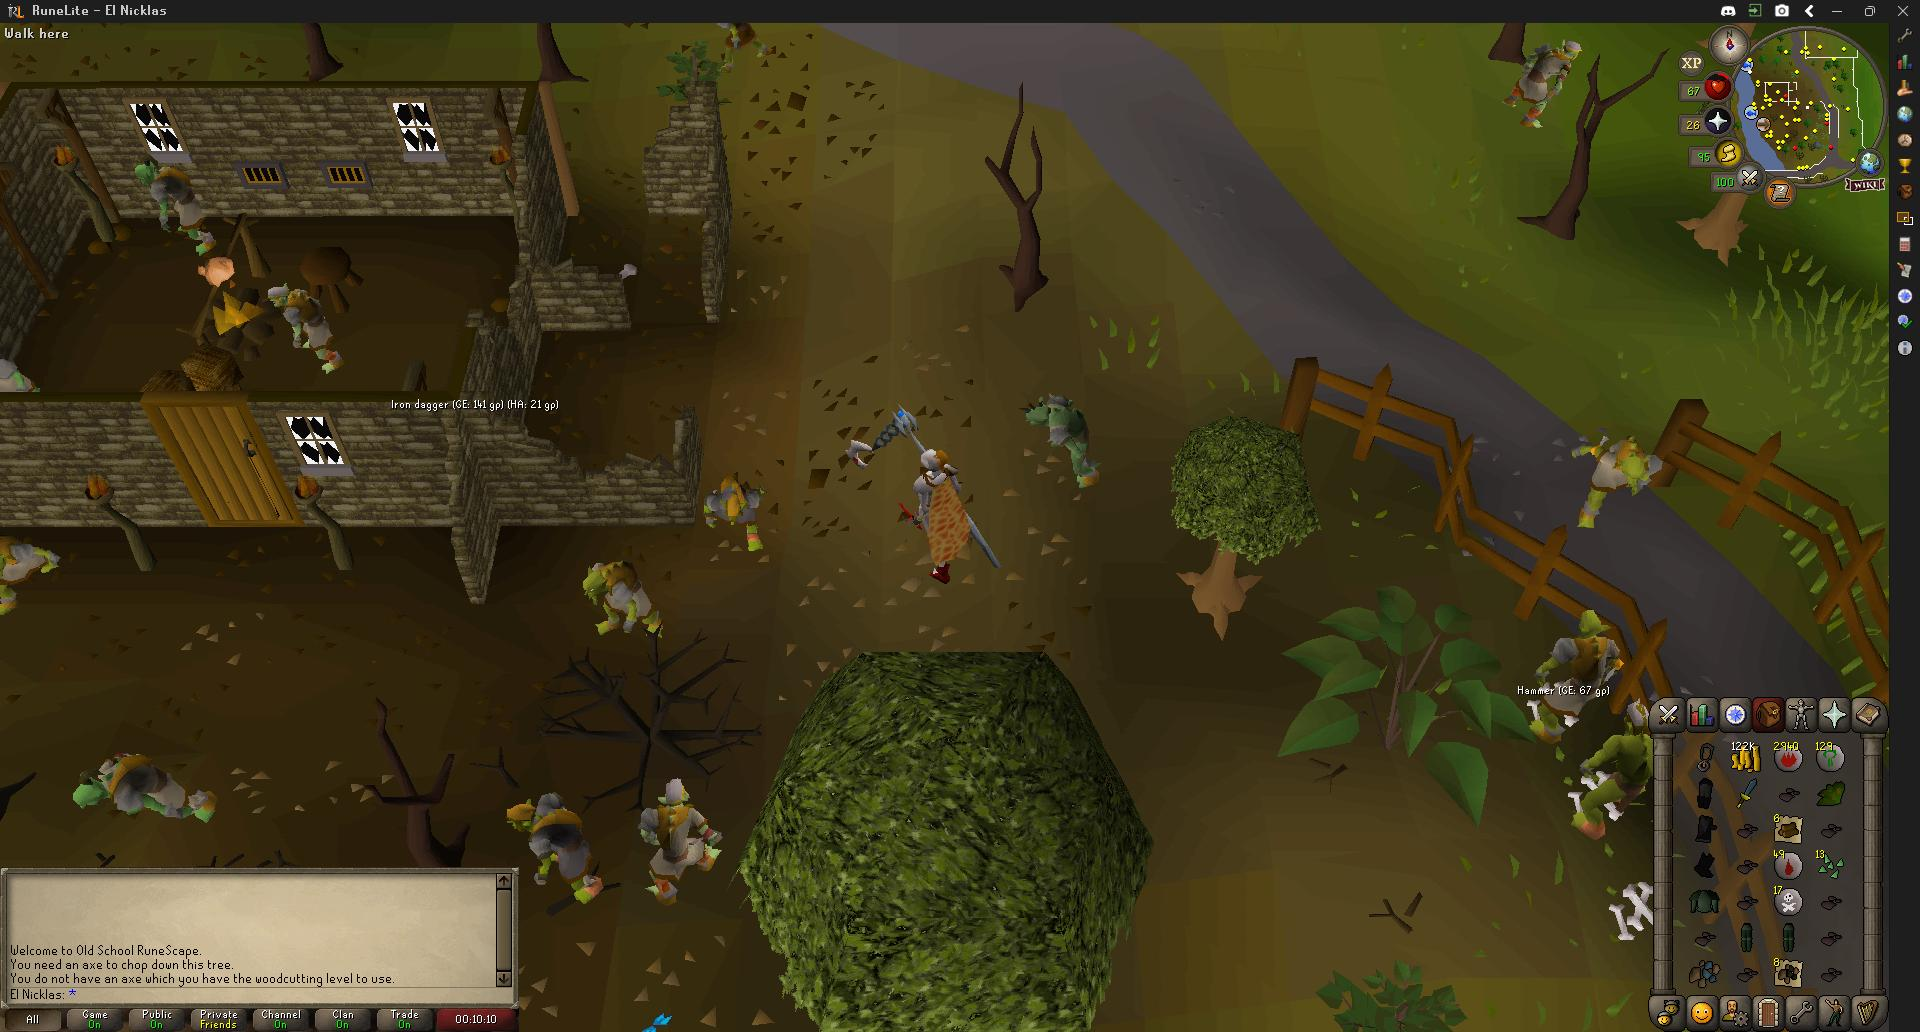Player: (900, 446, 982, 586)
goblin: (515, 783, 609, 903), (72, 748, 220, 820), (635, 773, 716, 898), (1573, 720, 1659, 837), (1569, 432, 1664, 530), (1530, 616, 1625, 713), (1023, 391, 1103, 490), (1504, 37, 1584, 130), (267, 281, 343, 374), (137, 160, 209, 248), (588, 551, 662, 628), (697, 474, 760, 553), (0, 538, 65, 599), (716, 23, 758, 69)
